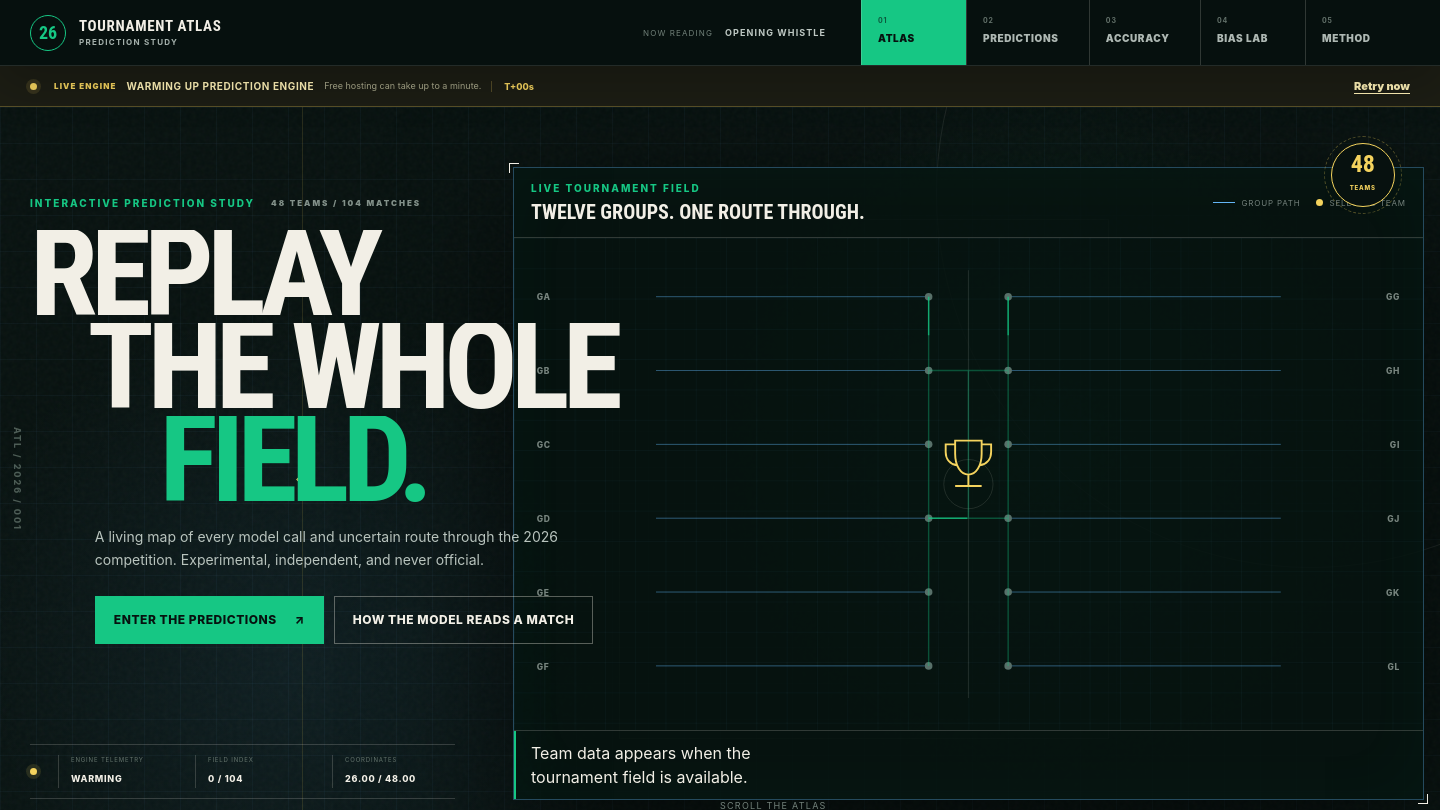
Test: keeps hash navigation responsive while the backend is waking
Expected: the message shows "Warming up prediction engine", 126,80 -> 314,92
Click the link "Enter the predictions ↗": (209, 620) 95,596 -> 324,644
(page scrolled)
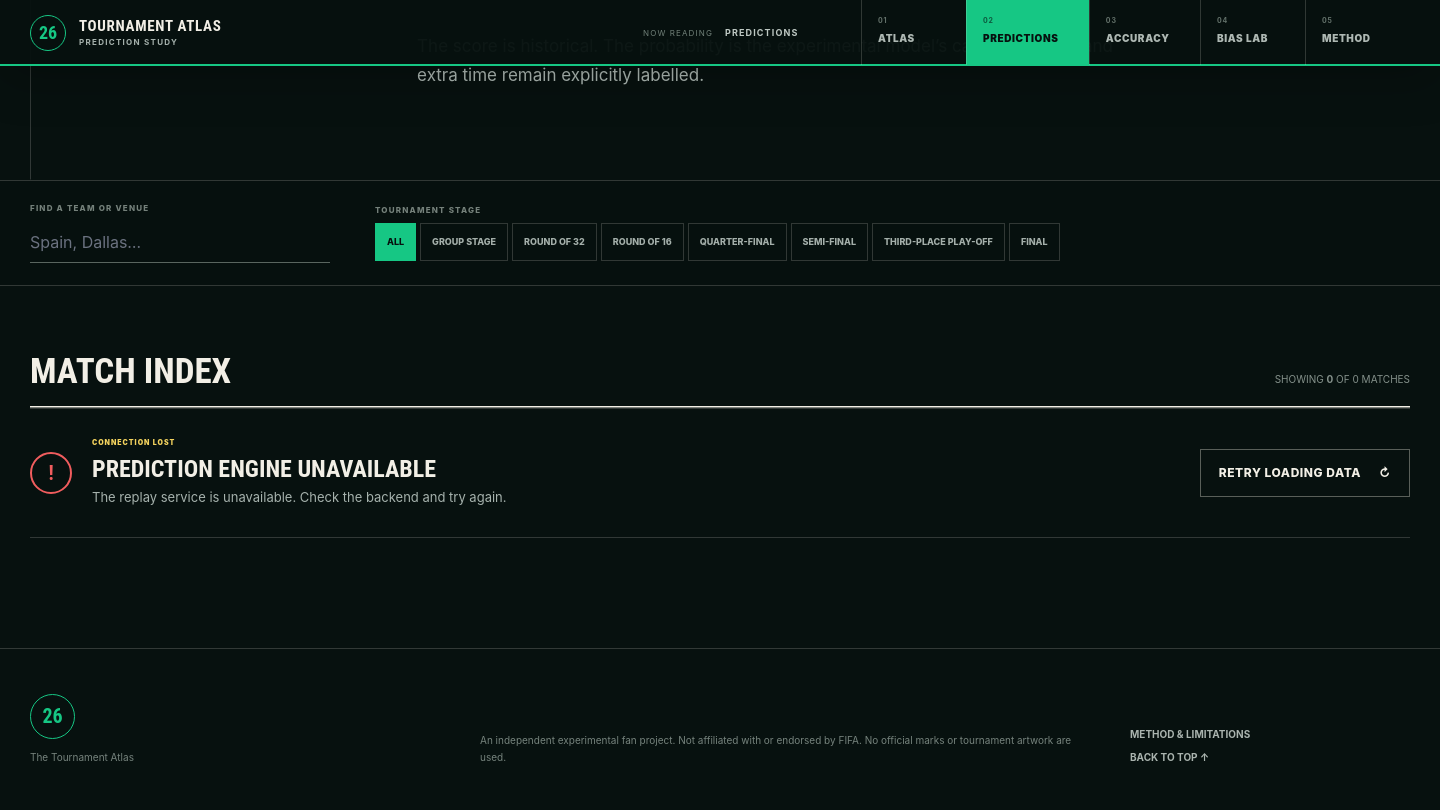
Result: the message shows "Prediction engine unavailable" at 92,455 -> 436,483
